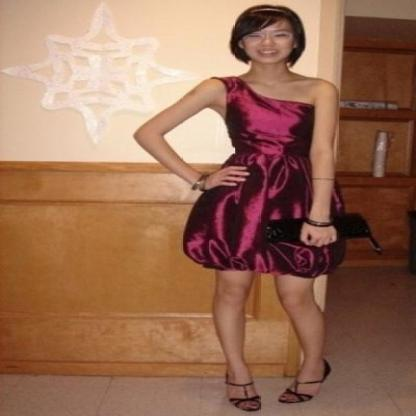bag: (250, 213, 370, 257)
dress: (182, 76, 352, 278)
shoe: (228, 359, 329, 415)
